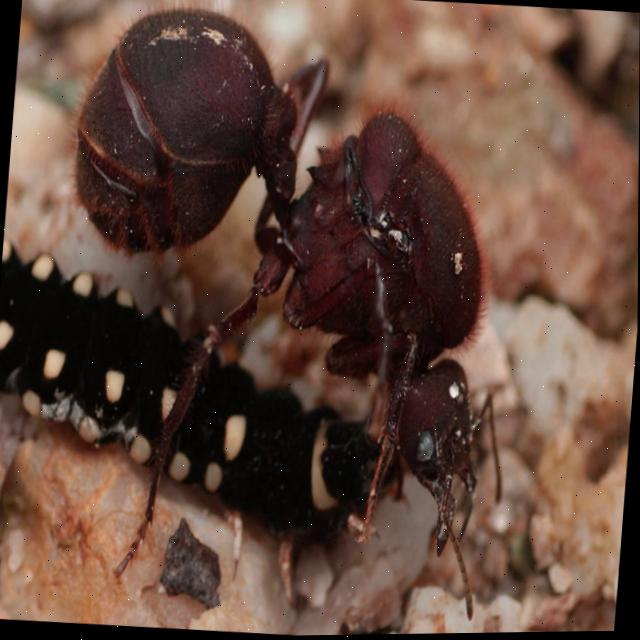Alive-Female-Dealate: (33, 0, 539, 630)
